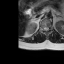CCS_normal: (45, 25, 47, 33)
LFS_stenosis: (49, 25, 51, 32)
LLS_normal: (47, 25, 49, 32)
RFS_normal: (41, 25, 43, 32)
RLS_normal: (43, 25, 45, 32)
